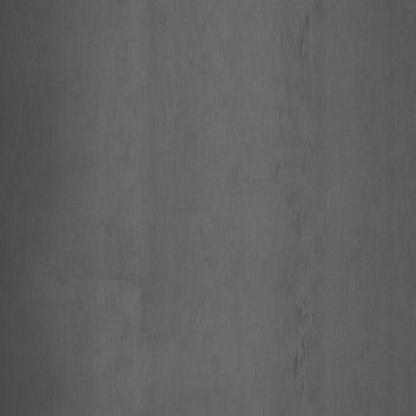silk_spot: (272, 18, 326, 373)
